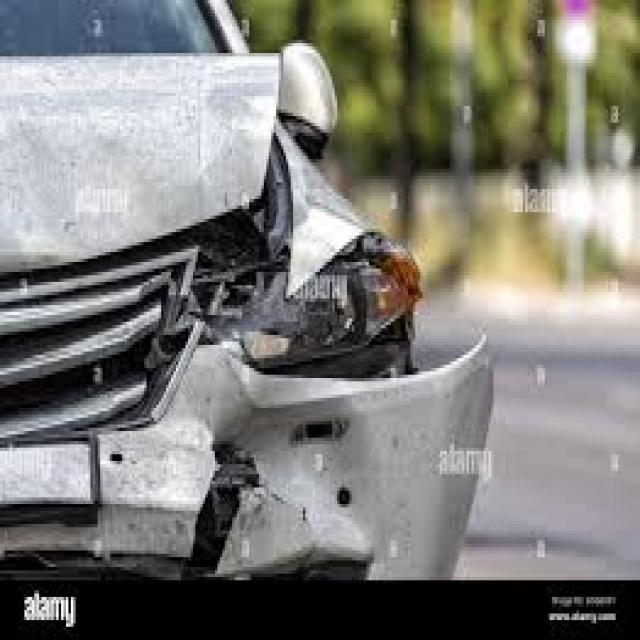severe: (66, 54, 460, 590)
